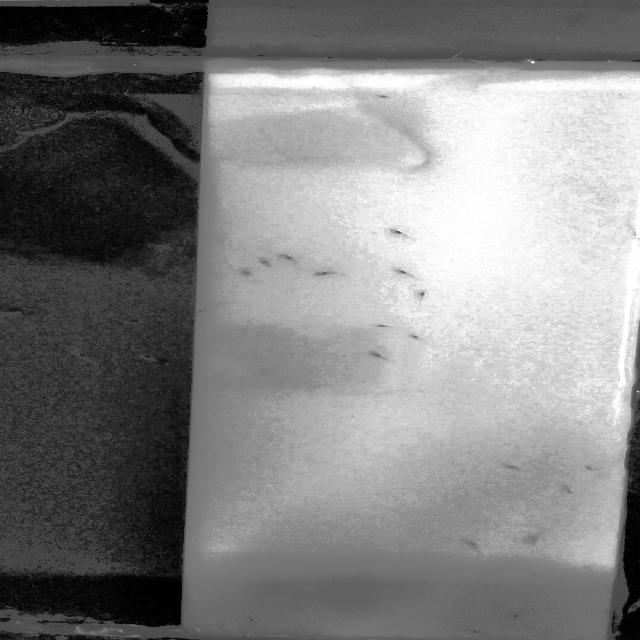shrimp: (373, 350, 398, 366), (463, 538, 484, 554), (192, 302, 218, 314), (385, 227, 410, 238), (528, 568, 544, 584), (241, 614, 263, 625), (508, 605, 524, 620), (500, 462, 524, 472), (256, 260, 276, 272), (373, 92, 401, 100), (530, 528, 542, 546), (466, 625, 485, 636), (282, 254, 299, 266), (561, 483, 575, 497), (397, 267, 413, 279), (578, 463, 598, 472), (254, 368, 280, 374), (375, 322, 397, 329), (404, 332, 422, 340), (315, 270, 333, 277), (419, 290, 429, 302), (238, 270, 252, 277)
